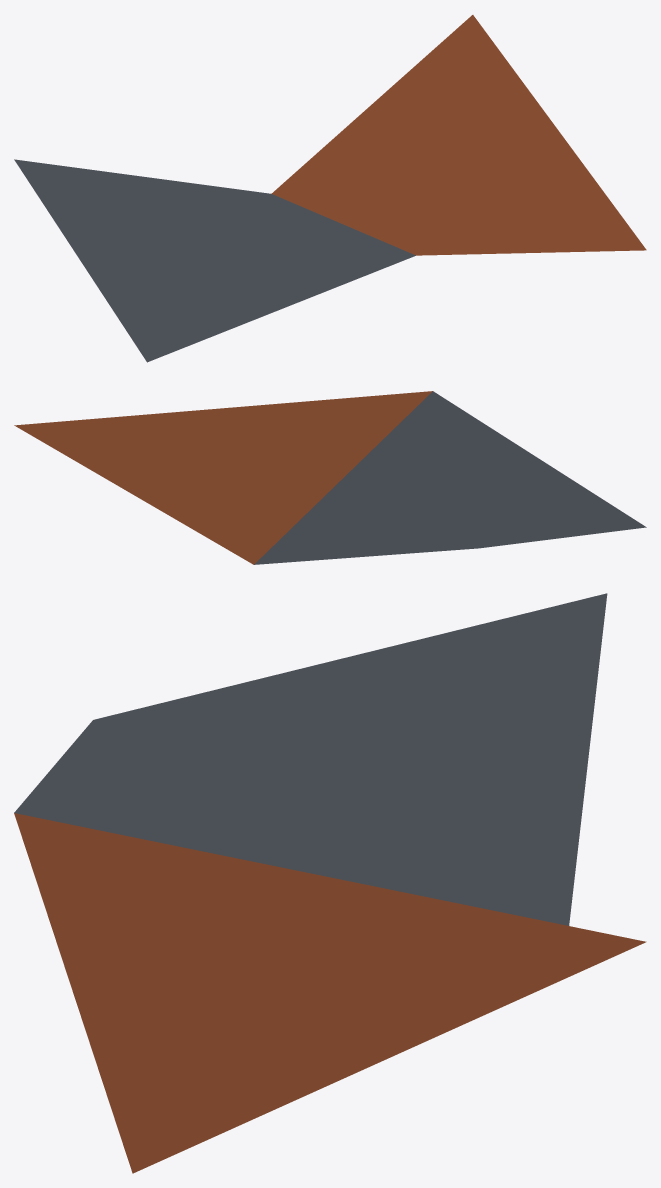
File: fx_debris_metal.glb
3 views of the same model, one above another, from view 1: azimuth 30°, elevation 25°; view 2: azimuth 150°, elevation 25°; view 3: azimuth 270°, elevation 25° (orthographic). The views are drawn at different scales.
Visible parts, largest first — view 1: fx_debris_metal__mesh; view 2: fx_debris_metal__mesh; view 3: fx_debris_metal__mesh.
Boxes of the visible parts, bbox=[...] form: fx_debris_metal__mesh: bbox=[14, 15, 646, 362]; fx_debris_metal__mesh: bbox=[14, 391, 646, 564]; fx_debris_metal__mesh: bbox=[14, 593, 646, 1173].
Size of the model in its own units: 0.25 by 0.06 by 0.16.
Materials: 1 (1 with a texture image).
